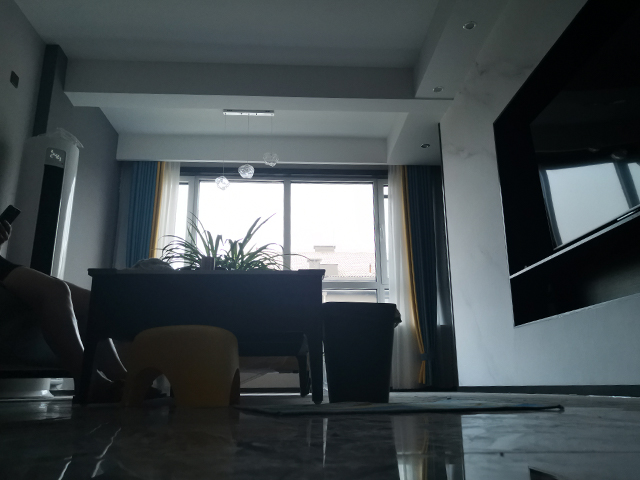carpet: (227, 400, 567, 420)
curtain: (385, 163, 440, 394), (111, 158, 178, 267)
stool: (117, 322, 244, 412)
table: (72, 266, 326, 407)
trashcan: (318, 301, 402, 405)
